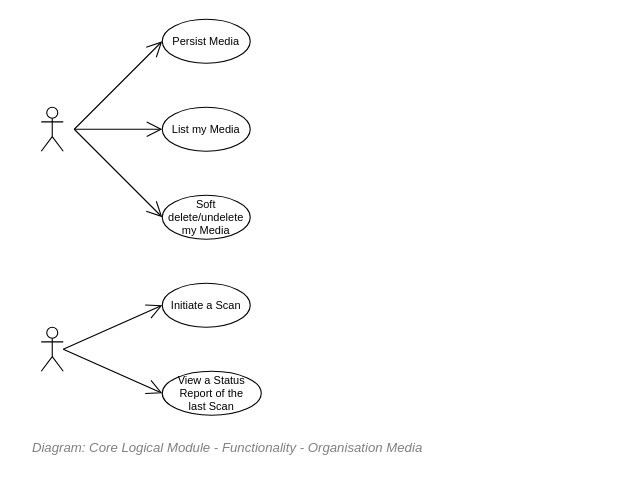
The diagram is 622 pixels wide and 479 high, and some of its shapes have lost their labels. The centre of each missing label's shape, as x and y in pixels:
Authenticated User: the point at 51,128
Security Specialist User: the point at 51,348
